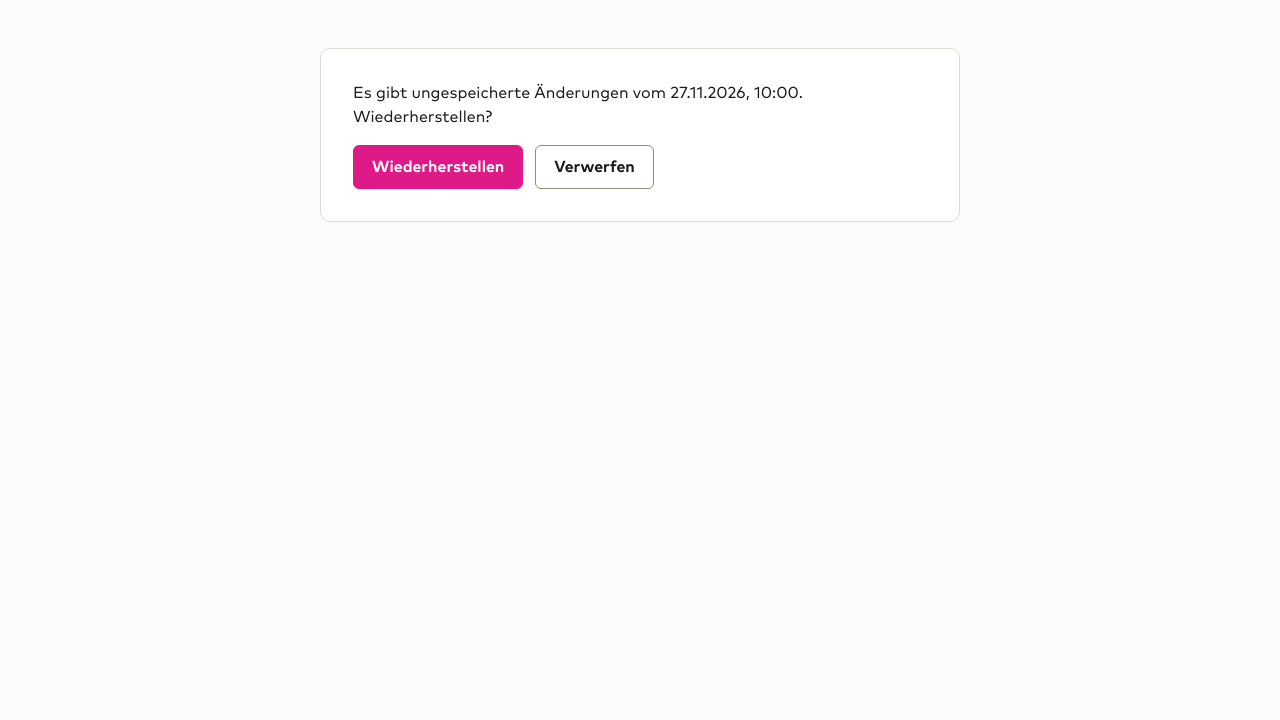
Test case: SiteEditor speichern › Entwurf verwerfen loescht ihn
The image size is (1280, 720).
Step 1. Click the button "Verwerfen" → (595, 167), box [535,145,654,189]
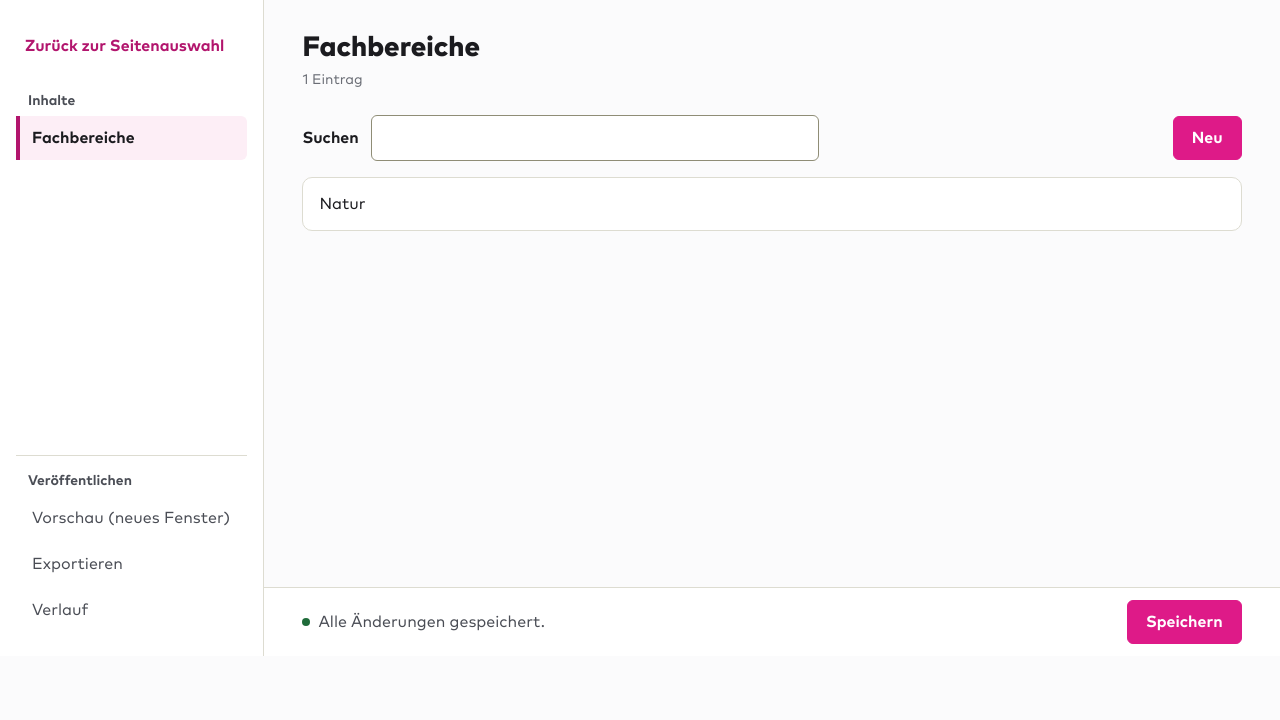
Expected: the text "Natur" is shown, [319,196,366,212]
